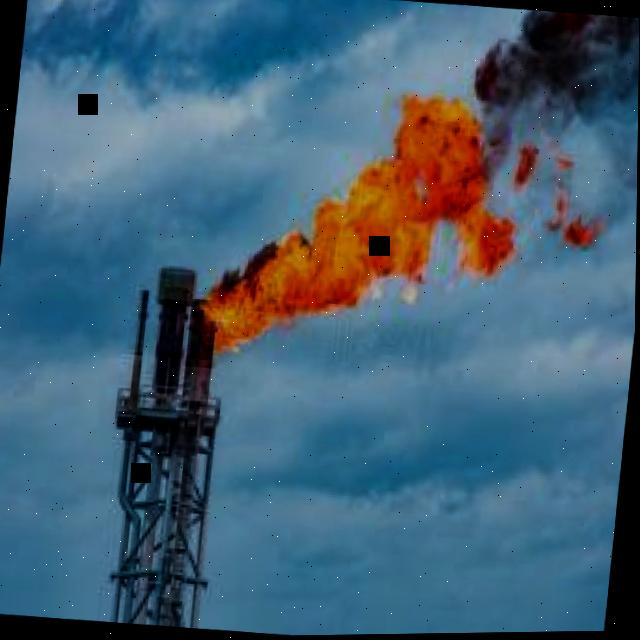fire: (205, 96, 514, 357), (561, 217, 601, 253), (518, 150, 539, 192)
smoke: (474, 11, 640, 234)
